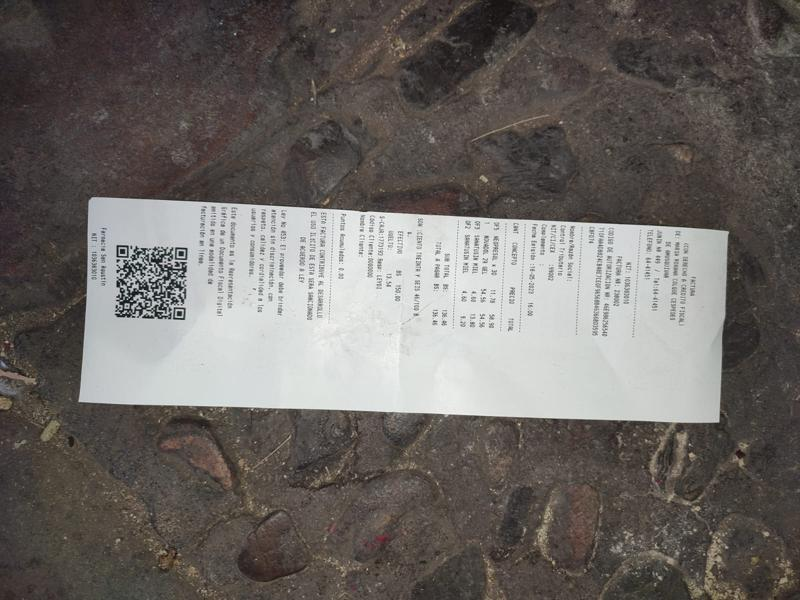papel: (76, 198, 731, 427)
